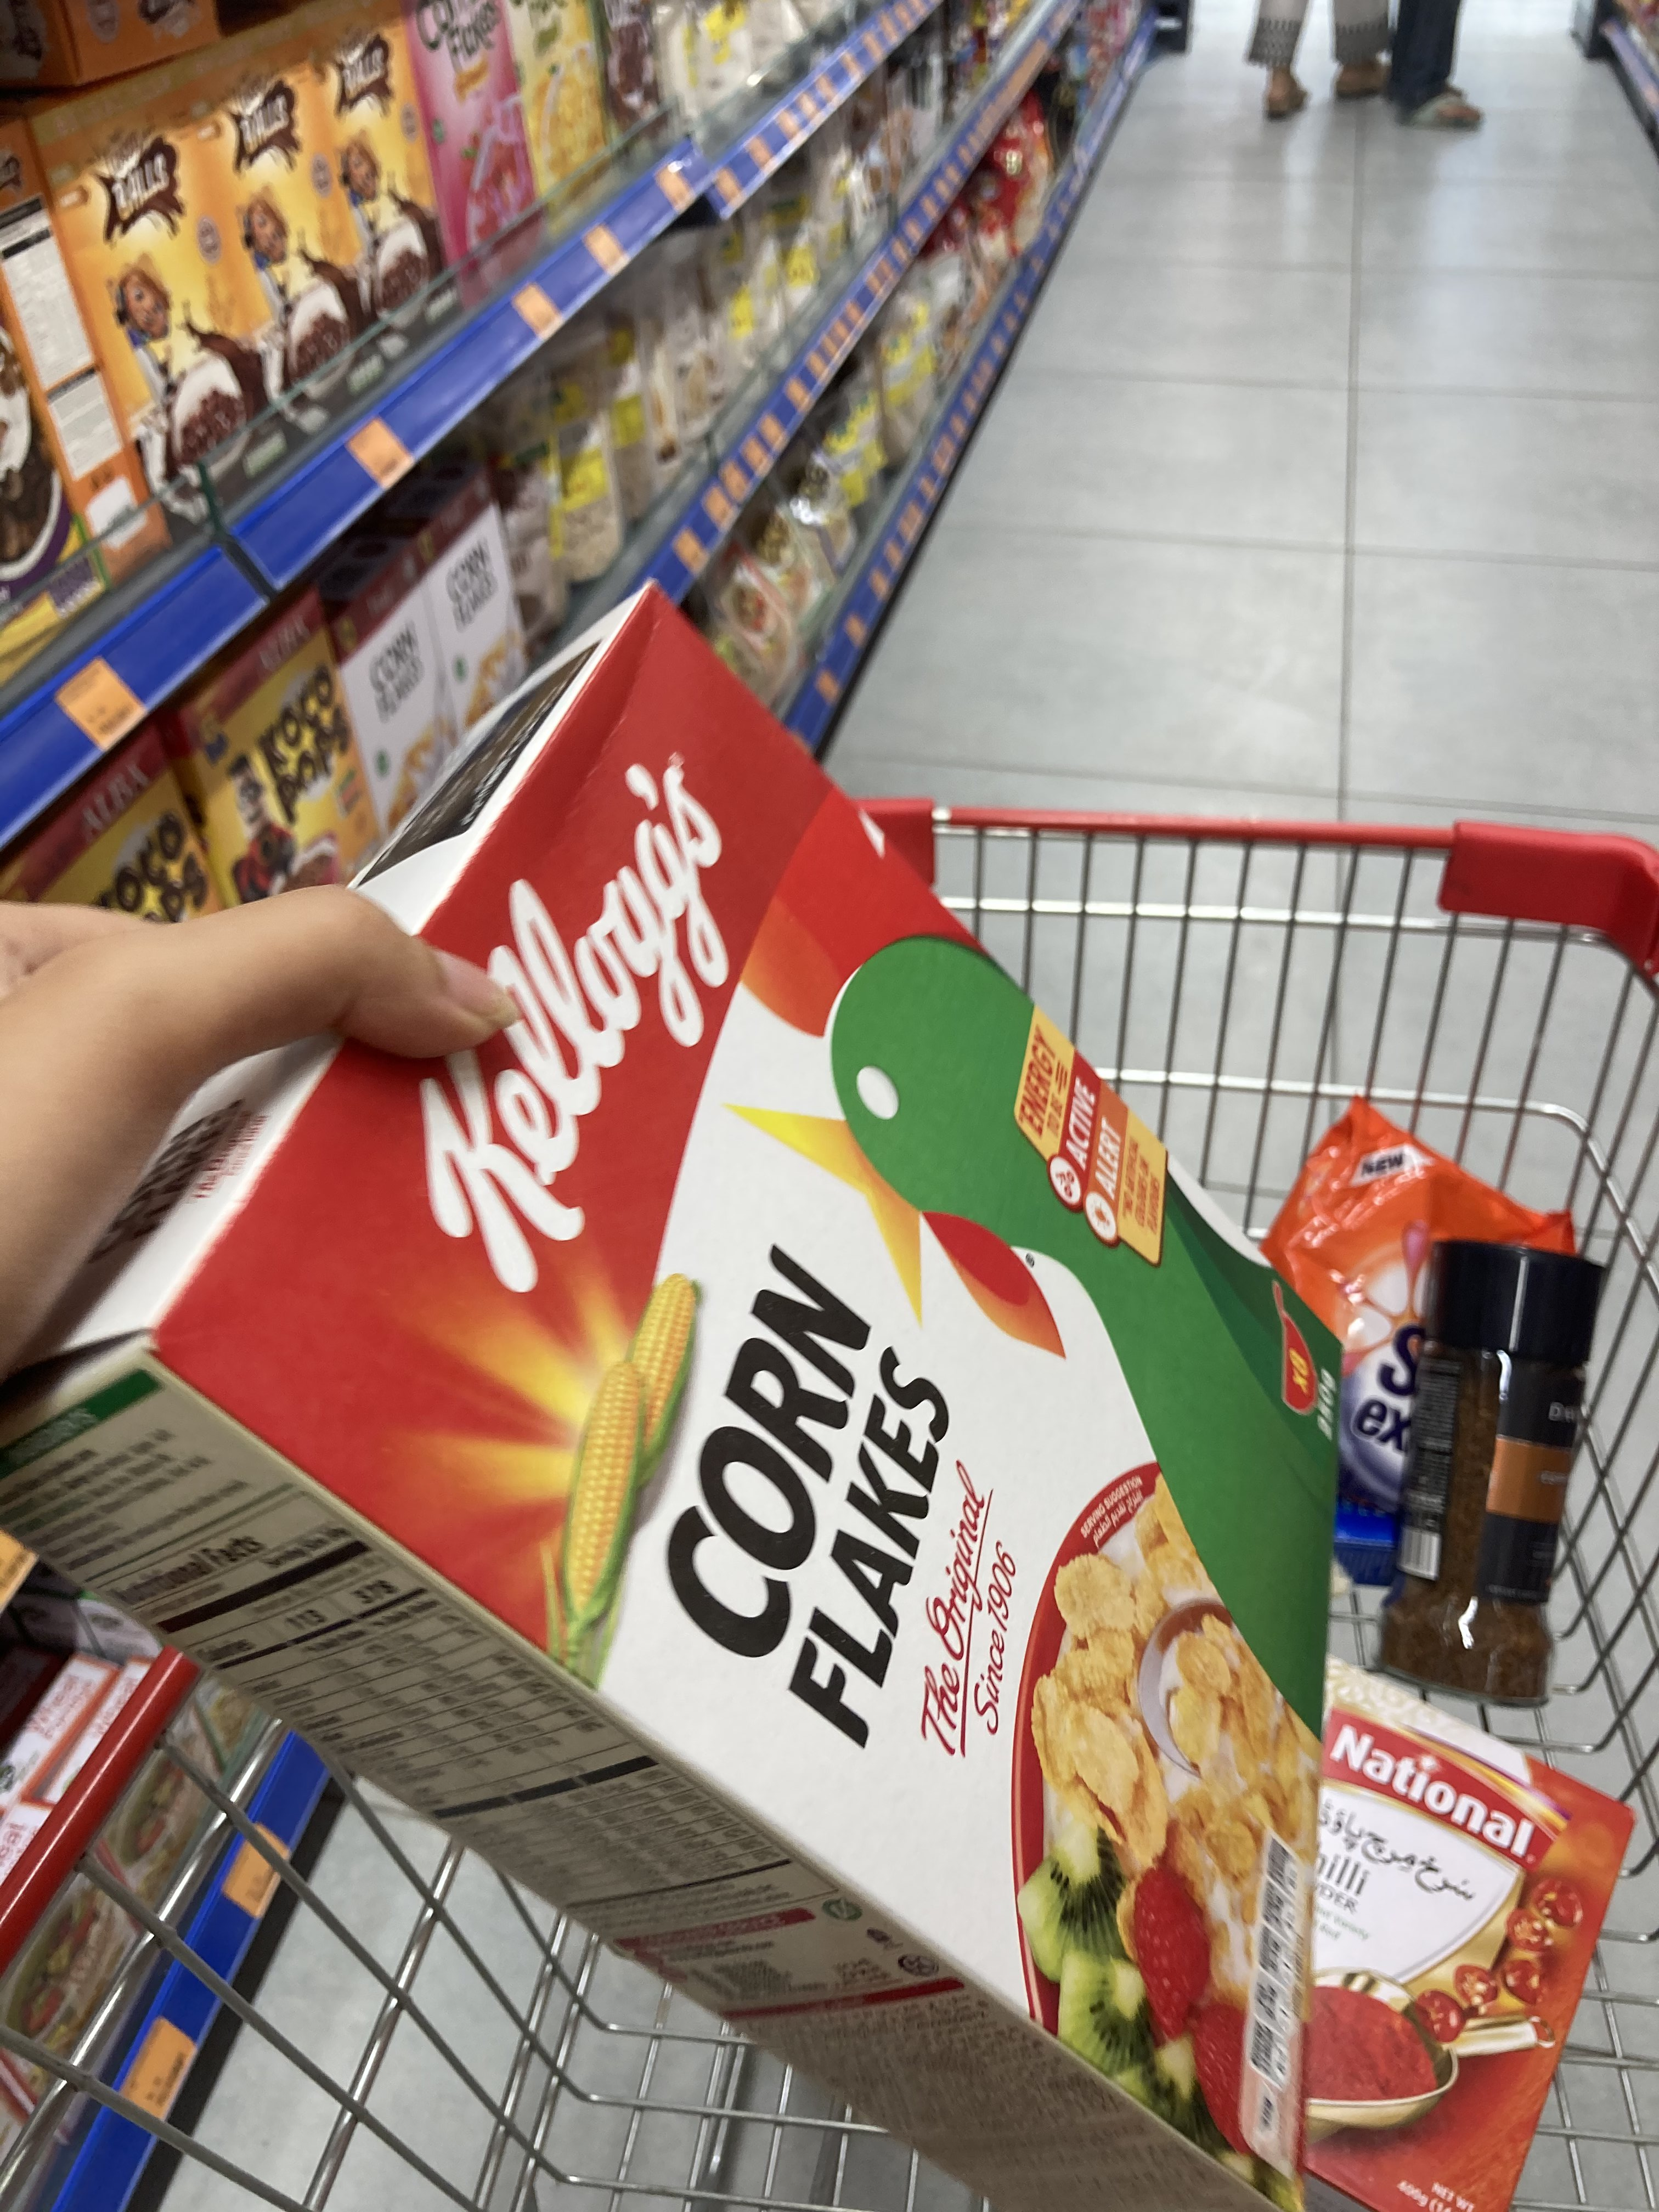Kellogg's Corn Flakes: (9, 585, 1349, 2210)
